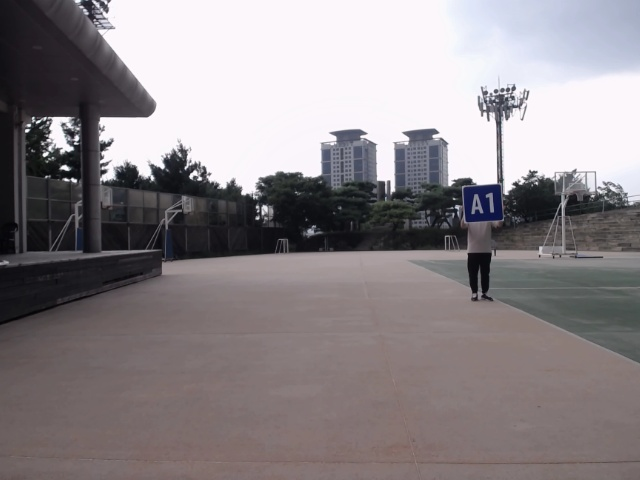delivery_a1: (464, 185, 503, 222)
